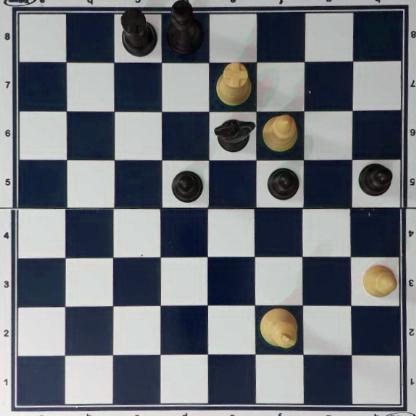black-king: (166, 1, 204, 55)
black-knight: (214, 117, 255, 151)
black-pawn: (357, 160, 392, 196), (169, 168, 204, 203), (267, 164, 299, 201)
black-rook: (118, 7, 159, 57)
white-bishop: (261, 113, 299, 152)
white-king: (259, 306, 299, 348)
white-pawn: (362, 262, 399, 299)
white-rook: (215, 60, 253, 106)
